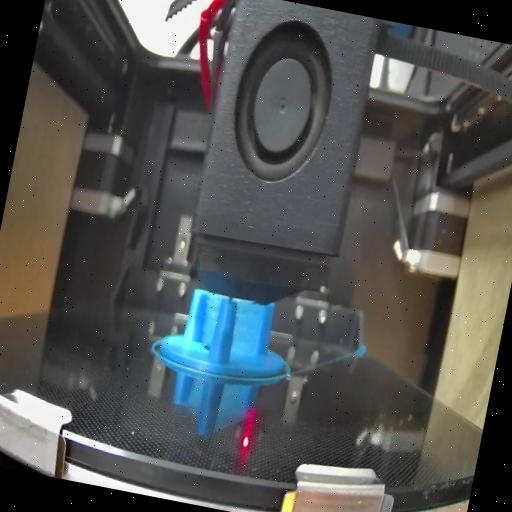stringing: (226, 298, 268, 366), (194, 291, 223, 352)
